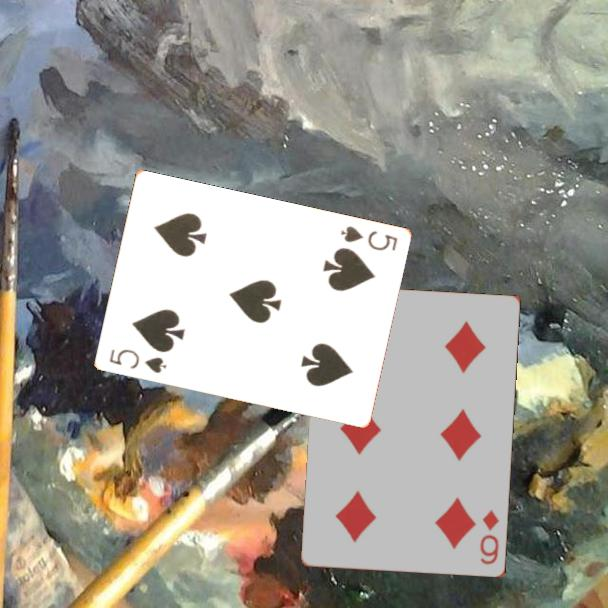d06: (477, 507, 502, 567)
s05: (337, 222, 400, 254), (106, 345, 169, 376)
